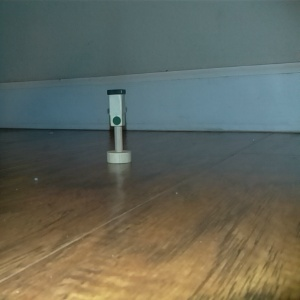traffic light green: (104, 87, 133, 166)
